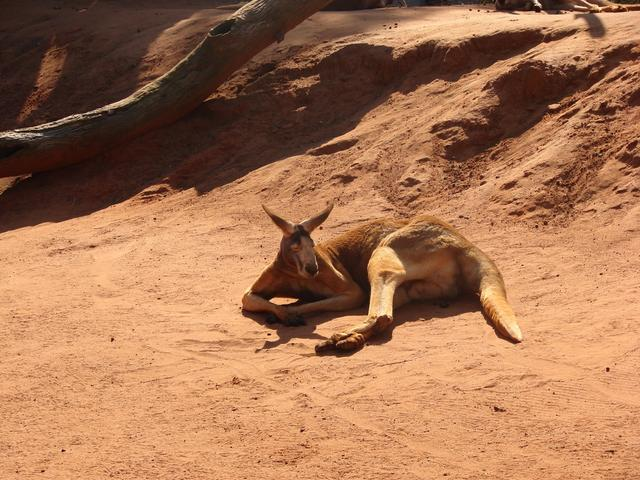kangaroo: (230, 196, 538, 354)
